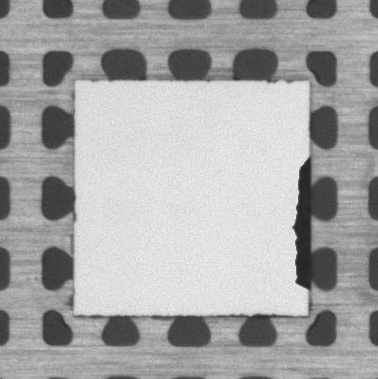DIE_BROKEN: (293, 159, 313, 294)
